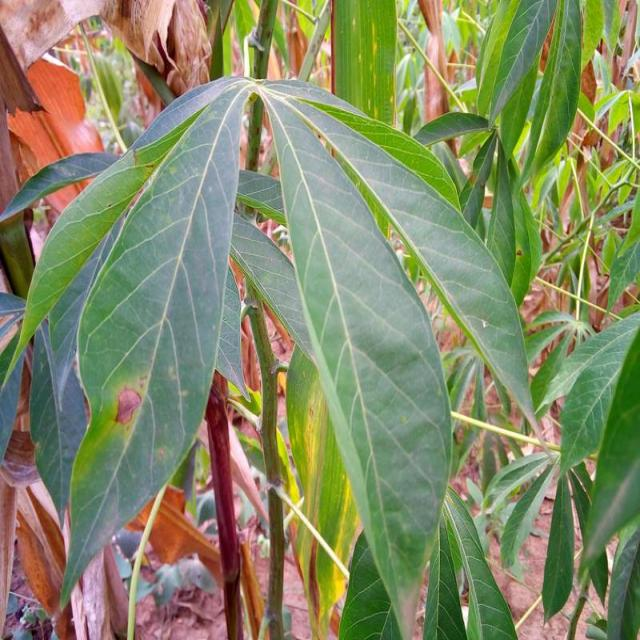cassava leaf: (6, 71, 542, 634), (18, 75, 253, 611), (258, 79, 456, 638)
